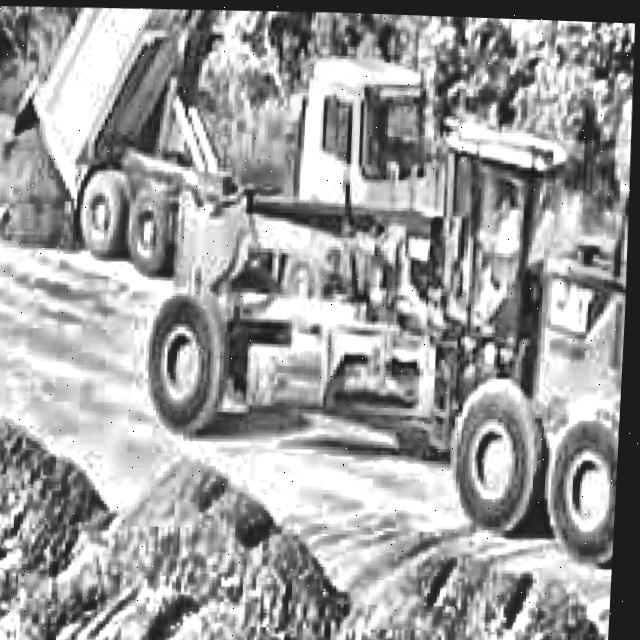buldozerpayloadergrader: (134, 107, 636, 563)
dump_truck: (12, 1, 410, 232)
